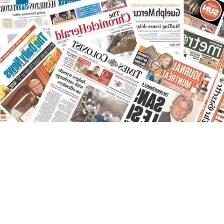news_paper: (32, 30, 147, 123), (125, 33, 224, 126), (0, 17, 67, 122), (45, 0, 140, 63), (120, 0, 184, 57), (170, 26, 224, 77), (0, 0, 61, 44), (174, 0, 224, 38)
